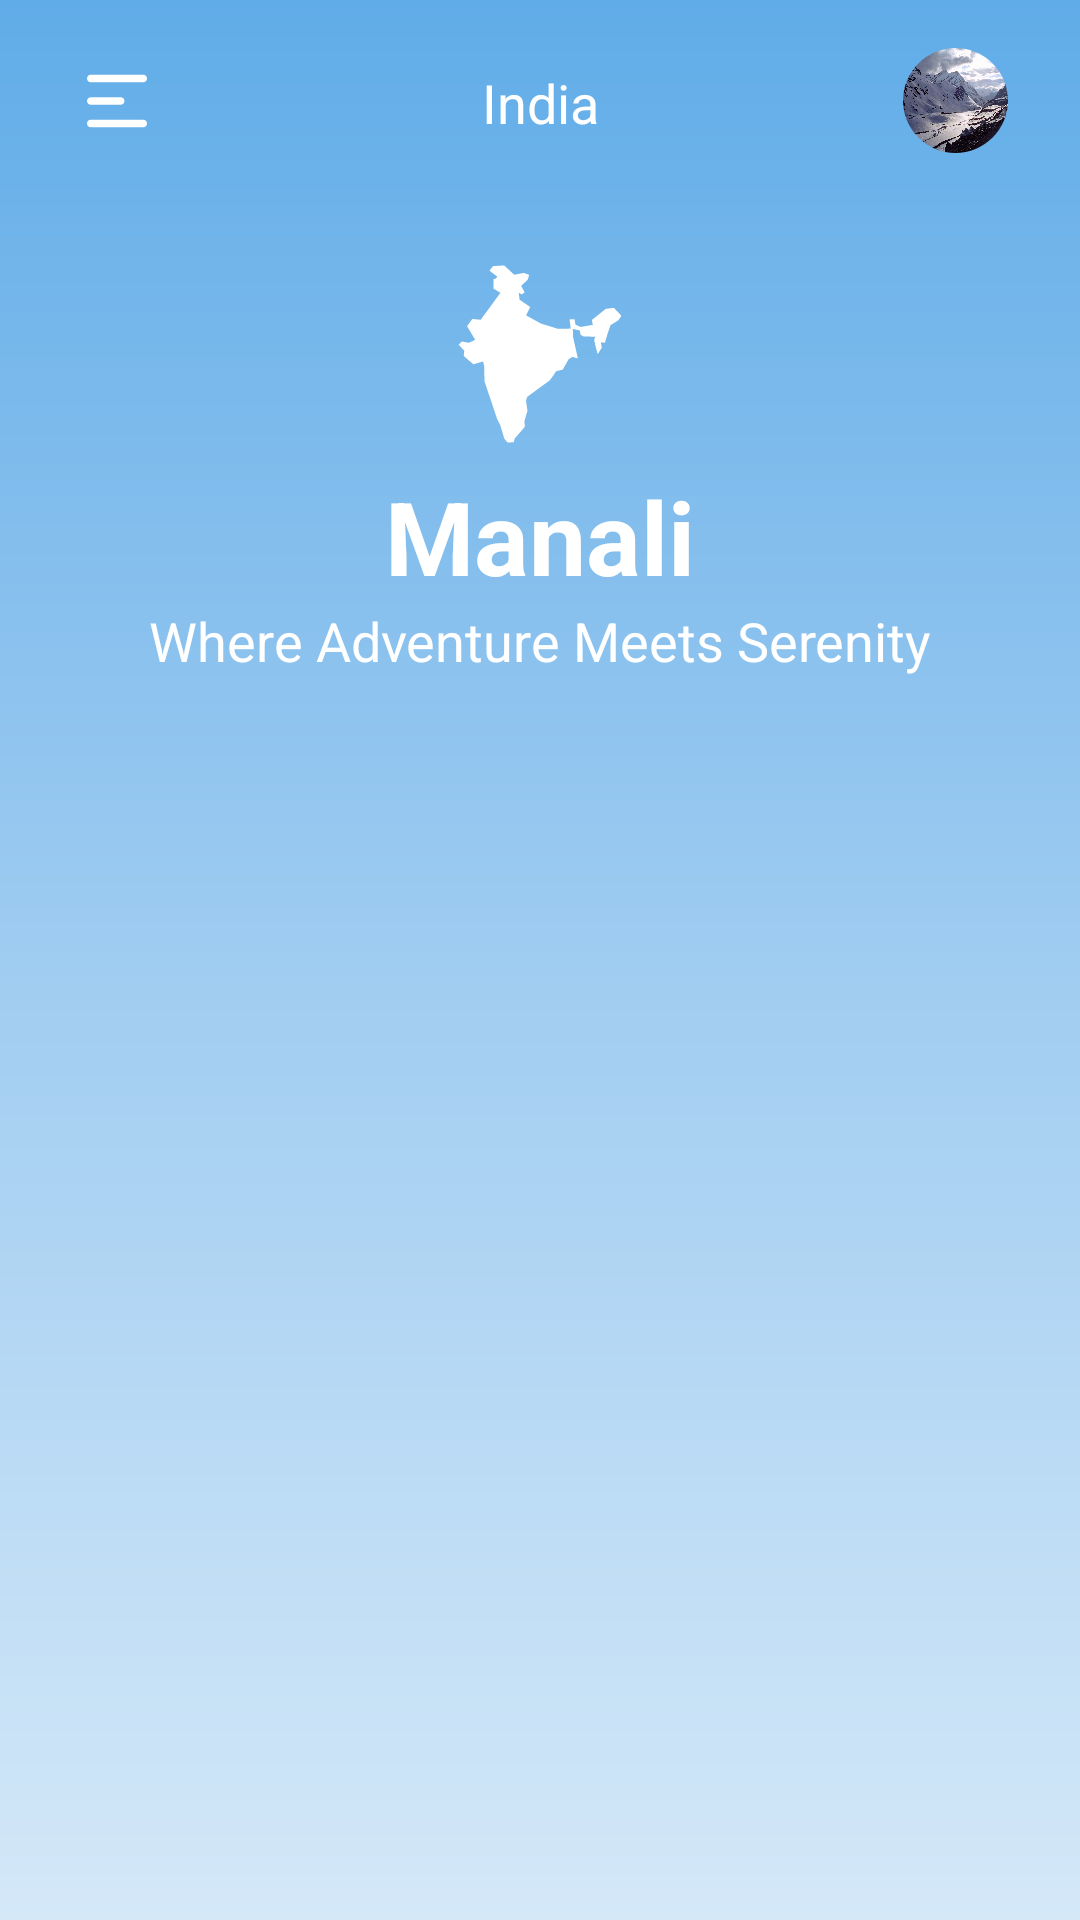

Icon bounding boxes for this 1080w x 1920h phone screenshot, format (x1, y1, x2, y2):
Map: (459, 265, 621, 443)
menu: (87, 74, 147, 128)
